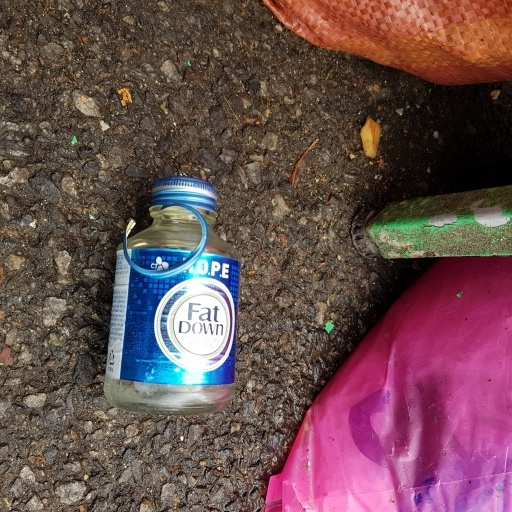Glass_4: (95, 169, 247, 423)
